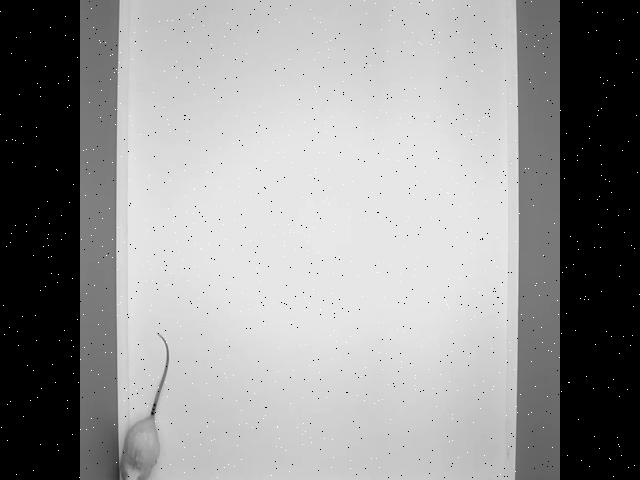Tikus: (117, 326, 172, 480)
